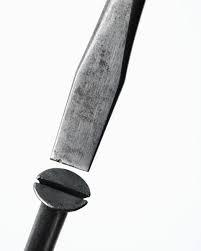screwdriver: (49, 0, 146, 172)
